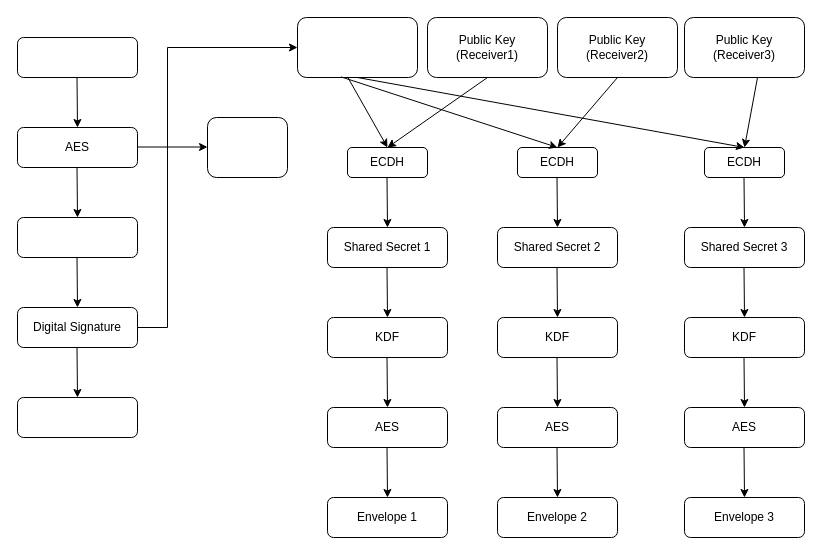
Image size: 822x555. Some labels were removed from this diagram. Here are the shapes that lost their labels. From the top down, the centre of each, then its label:
At (x=77, y=57): "FILE1".
At (x=357, y=47): "Private Key (Sender)".
At (x=247, y=147): "Random Session Key".
At (x=77, y=237): "Encrypted File".
At (x=77, y=417): "Digital Signature File".
